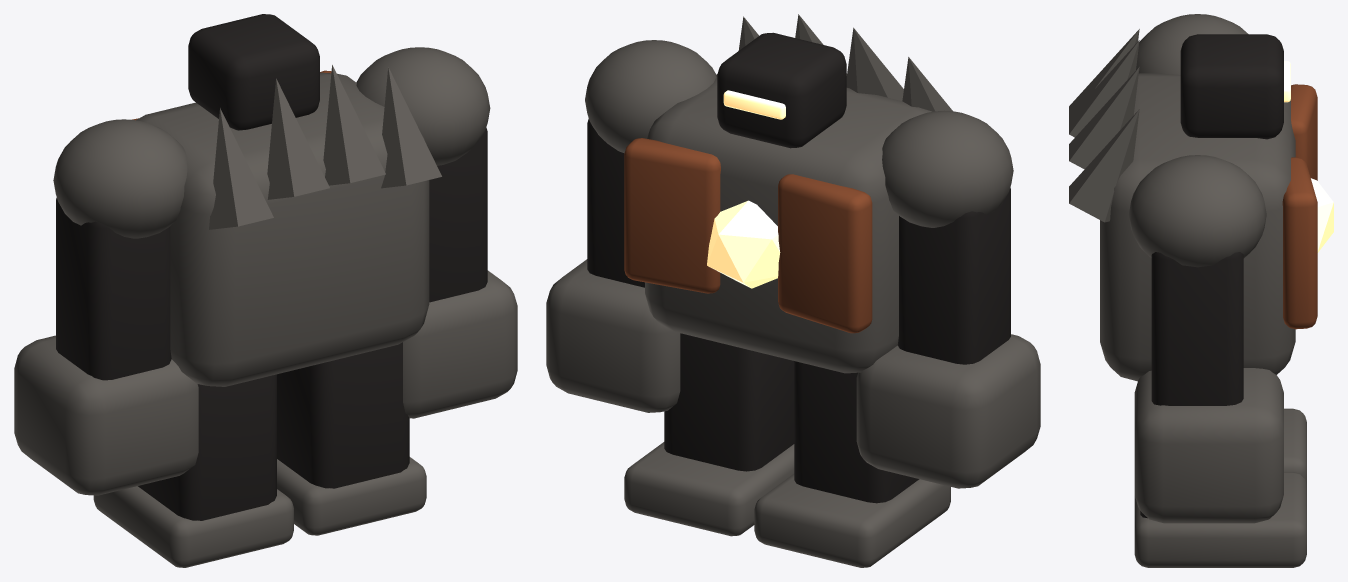
Rendered from enemy_titan_colossus.glb.
3 views of the same model, side by side, from view 1: azimuth 30°, elevation 25°; view 2: azimuth 150°, elevation 25°; view 3: azimuth 270°, elevation 25° (orthographic). The views are drawn at different scales.
Visible parts, largest first — view 1: Torso, FistL, ArmL, LegR, ShoulderL, FistR, LegL, Head, ShoulderR, FootL, ArmR, FootR (+4 smaller); view 2: Torso, FistL, ArmL, FistR, LegR, ChestPlate0, ChestPlate1, ShoulderL, FootL, Head, FootR, LegL (+6 smaller); view 3: Torso, FistR, ArmR, ShoulderR, Head, FootR, ChestPlate1, Crag3, ShoulderL, Crag2, ChestPlate0, Crag1 (+3 smaller).
Part boxes in pixels (left/top/right/bottom): Torso: left=136, top=72, right=429, bottom=386; FistL: left=14, top=335, right=198, bottom=495; ArmL: left=56, top=197, right=171, bottom=380; LegR: left=277, top=342, right=409, bottom=488; ShoulderL: left=53, top=119, right=187, bottom=238; FistR: left=403, top=270, right=517, bottom=418; LegL: left=138, top=374, right=276, bottom=520; Head: left=188, top=14, right=319, bottom=130; ShoulderR: left=356, top=47, right=490, bottom=165; FootL: left=93, top=486, right=293, bottom=567; ArmR: left=429, top=127, right=487, bottom=302; FootR: left=277, top=457, right=426, bottom=535; Torso: left=645, top=74, right=931, bottom=373; FistL: left=856, top=334, right=1040, bottom=488; ArmL: left=897, top=187, right=1010, bottom=364; FistR: left=546, top=259, right=680, bottom=412; LegR: left=664, top=333, right=794, bottom=471; ChestPlate0: left=778, top=174, right=872, bottom=333; ChestPlate1: left=624, top=138, right=720, bottom=293; ShoulderL: left=882, top=110, right=1013, bottom=227; FootL: left=754, top=474, right=950, bottom=567; Head: left=717, top=32, right=846, bottom=148; FootR: left=624, top=442, right=794, bottom=536; LegL: left=794, top=361, right=919, bottom=503; Torso: left=1100, top=73, right=1295, bottom=381; FistR: left=1134, top=368, right=1283, bottom=523; ArmR: left=1151, top=252, right=1243, bottom=405; ShoulderR: left=1128, top=155, right=1266, bottom=267; Head: left=1180, top=34, right=1283, bottom=139; FootR: left=1134, top=472, right=1306, bottom=567; ChestPlate1: left=1282, top=157, right=1317, bottom=329; Crag3: left=1069, top=109, right=1139, bottom=222; ShoulderL: left=1136, top=14, right=1248, bottom=74; Crag2: left=1069, top=67, right=1139, bottom=169; ChestPlate0: left=1291, top=84, right=1317, bottom=180; Crag1: left=1069, top=40, right=1139, bottom=137.
Size of the model in its own units: 4.4 by 4.42 by 2.3.
